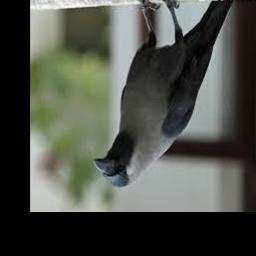Crow: (93, 0, 235, 189)
